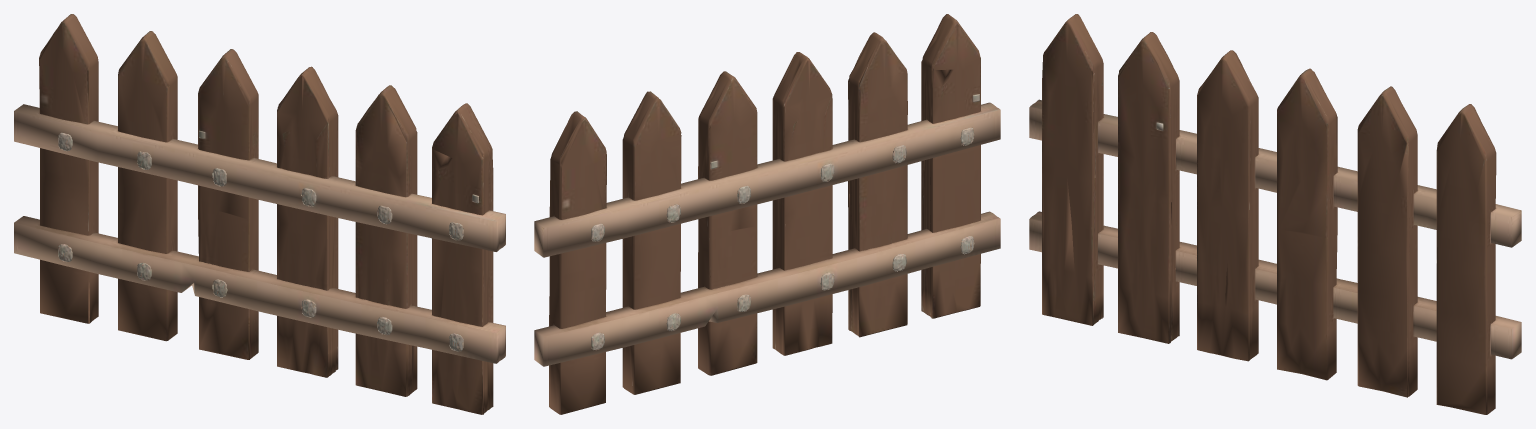
File: fence_picket.glb
3 views of the same model, side by side, from view 1: azimuth 90°, elevation 25°; view 2: azimuth 150°, elevation 25°; view 3: azimuth 270°, elevation 25° (orthographic). The views are drawn at different scales.
Parts seen in each view (by area): view 1: tripo_node_45e2efa1-bd46-4815-9173-0f5a88388a3c; view 2: tripo_node_45e2efa1-bd46-4815-9173-0f5a88388a3c; view 3: tripo_node_45e2efa1-bd46-4815-9173-0f5a88388a3c.
Boxes of the visible parts, bbox=[...] form: tripo_node_45e2efa1-bd46-4815-9173-0f5a88388a3c: bbox=[14, 14, 505, 414]; tripo_node_45e2efa1-bd46-4815-9173-0f5a88388a3c: bbox=[534, 14, 1000, 414]; tripo_node_45e2efa1-bd46-4815-9173-0f5a88388a3c: bbox=[1029, 14, 1521, 414].
Size of the model in its own units: 0.5645 by 0.6699 by 0.998.
Materials: 1 (1 with a texture image).
